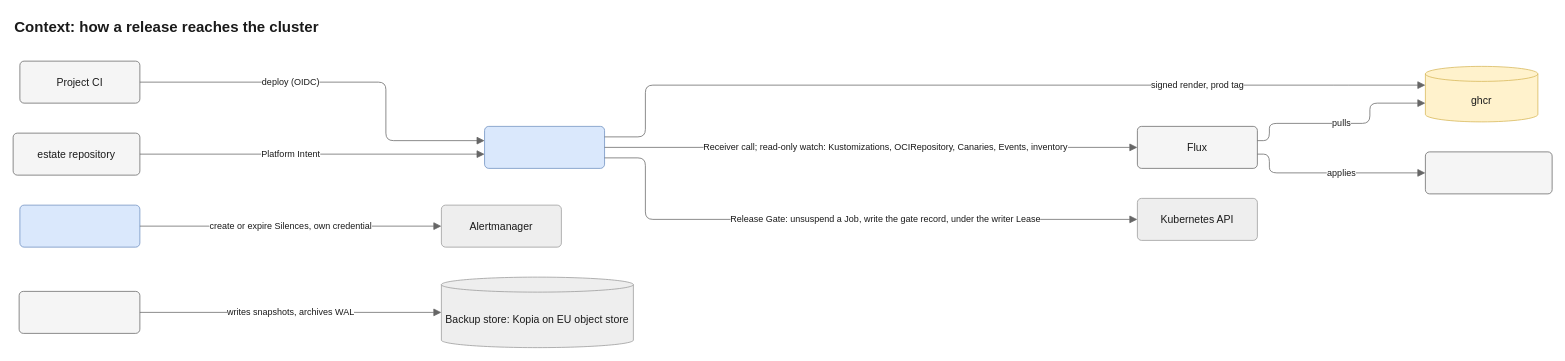
Image size: 1565x361. Some labels were removed from this diagram. The shapes that lost their labels are listed below. From the top down, each one's centre as x and y in pixels, then its label:
point 544,147: Delivery
point 1488,172: Project workloads
point 79,225: Observation
point 79,312: backup component
